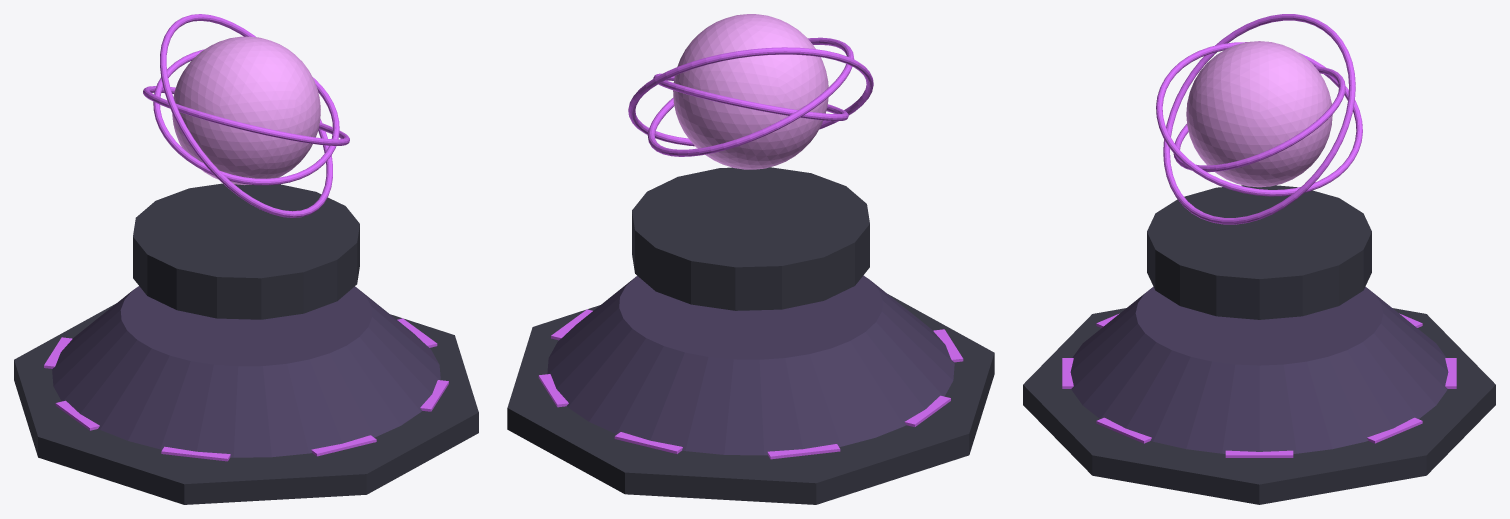
File: CH_ConYard.fbx
3 renders of one model, left to right at view 1: azimuth 30°, elevation 25°; view 2: azimuth 150°, elevation 25°; view 3: azimuth 270°, elevation 25°, orthographic. The views are drawn at different scales.
Visible parts, largest first — view 1: Cone, Cylinder, Cylinder.001, Icosphere, Torus.002, Torus, Torus.001, Cube.005; view 2: Cone, Cylinder.001, Cylinder, Icosphere, Torus.002, Torus.001, Torus, Cube.003, Cube.002; view 3: Cone, Cylinder, Cylinder.001, Icosphere, Torus.002, Torus.001, Torus.
Boxes of the visible parts, x1,y1,x2,y2 form: Cone: (52, 286, 440, 457); Cylinder: (14, 304, 478, 504); Cylinder.001: (133, 183, 359, 319); Icosphere: (172, 36, 320, 185); Torus.002: (160, 14, 332, 217); Torus: (153, 49, 339, 185); Torus.001: (143, 86, 349, 145); Cube.005: (161, 446, 230, 461); Cone: (547, 275, 954, 455); Cylinder.001: (632, 167, 869, 310); Cylinder: (507, 294, 994, 504); Icosphere: (673, 14, 828, 169); Torus.002: (628, 47, 873, 146); Torus.001: (647, 37, 854, 156); Torus: (653, 73, 848, 121); Cube.003: (767, 444, 840, 459); Cube.002: (614, 432, 682, 453); Cone: (1070, 286, 1448, 453); Cylinder: (1023, 308, 1495, 504); Cylinder.001: (1147, 185, 1371, 319); Icosphere: (1186, 41, 1332, 187); Torus.002: (1163, 14, 1355, 224); Torus.001: (1156, 42, 1362, 196); Torus: (1173, 66, 1345, 172).
Bounding box in the file's own units: 840 × 712 × 840.
